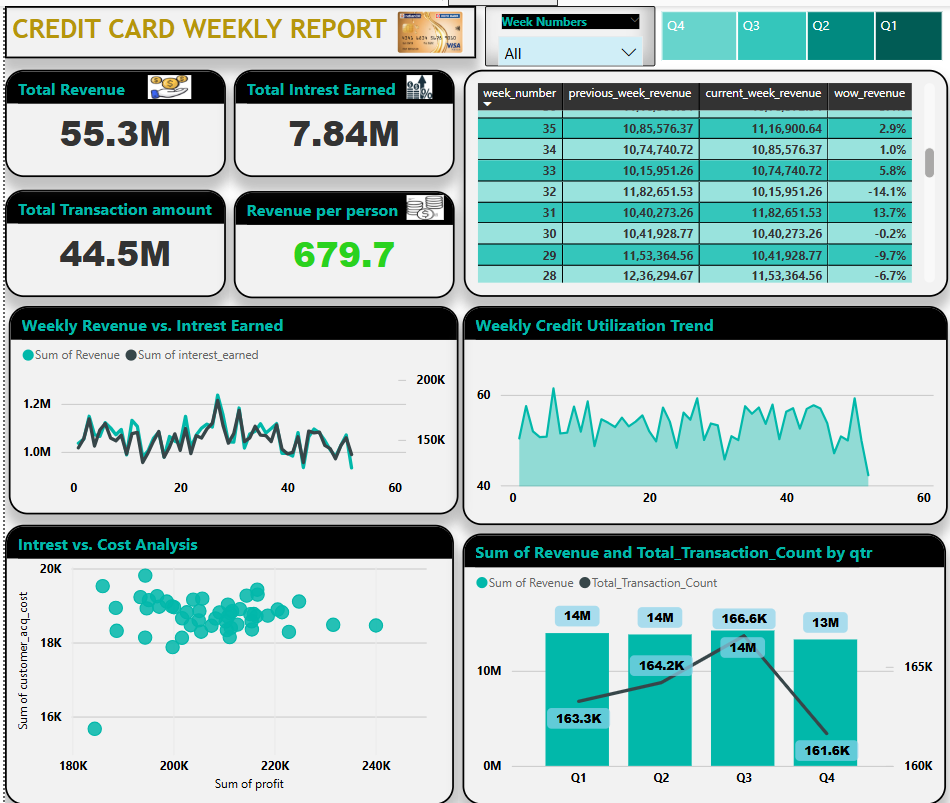

The page's visual inventory and layout, read from the dashboard file:
{"tool":"powerbi","page":{"name":"Weekly report","canvas":[850,755],"ordinal":0},"visuals":[{"type":"textbox","box":[0,0,424.7,47.3],"z":0},{"type":"image","box":[313,0,140.2,47.3],"z":1000},{"type":"tableEx","fields":{"Values":["Sum(public credit_card_detail.week_sort)","public credit_card_detail.previous_week_revenue","public credit_card_detail.current_week_revenue","public credit_card_detail.wow_revenue"]},"box":[413.3,57.9,436.9,204.6],"z":2000},{"type":"slicer","fields":{"Values":["public credit_card_detail.week_sort"]},"box":[432.4,0,153.8,54.2],"z":3000},{"type":"card","title":"Total Transaction amount","fields":{"Values":["public credit_card_detail.Total Transactions"]},"box":[0,165.5,198.9,97],"z":4000},{"type":"card","title":"Total Revenue","fields":{"Values":["Sum(public credit_card_detail.Revenue)"]},"box":[0,57.9,198.9,97],"z":5000},{"type":"card","title":"Revenue per person","fields":{"Values":["public credit_card_detail.Revenue_per_Customer"]},"box":[206.2,166.3,198.9,97],"z":6000},{"type":"card","title":"Total Intrest Earned","fields":{"Values":["Sum(public credit_card_detail.interest_earned)"]},"box":[206.2,57.9,198.9,97],"z":7000},{"type":"lineChart","title":" Weekly Revenue vs. Intrest Earned","fields":{"Category":["public credit_card_detail.week_number","public credit_card_detail.qtr"],"Y2":["Sum(public credit_card_detail.interest_earned)"],"Y":["Sum(public credit_card_detail.Revenue)"]},"box":[3.3,270.3,405.5,206.9],"z":8000},{"type":"treemap","fields":{"Group":["public credit_card_detail.qtr"],"Values":["Avg(public credit_card_detail.client_num)"]},"box":[586.9,0,263.3,54.6],"z":9000},{"type":"stackedAreaChart","title":"Weekly Credit Utilization Trend","fields":{"Y":["Sum(public credit_card_detail.avg_utilization_ratio)"],"Category":["Date_Master.Week_num","public credit_card_detail.qtr"]},"box":[413,270.3,437.2,206.9],"z":10000},{"type":"scatterChart","title":"Intrest vs. Cost Analysis","fields":{"Y":["Sum(public credit_card_detail.customer_acq_cost)"],"Category":["public credit_card_detail.week_number"],"X":["Sum(public credit_card_detail.profit)"]},"box":[0.9,486,404.8,268.9],"z":11000},{"type":"lineStackedColumnComboChart","fields":{"Category":["public credit_card_detail.qtr"],"Y":["Sum(public credit_card_detail.Revenue)"],"Y2":["public credit_card_detail.Total_Transaction_Count"]},"box":[413.3,485.8,436.7,269.2],"z":12000},{"type":"image","box":[124,57.8,48.8,31.4],"z":13000},{"type":"image","box":[356.8,57.8,32.8,31.4],"z":14000},{"type":"image","box":[357,166.2,43.5,32.5],"z":15000}]}

Visuals, with their boxes on the page's 850x755 design canvas (x1, y1, x2, y2). These are canvas units, not pixel positions in the 950x803 screenshot, which may show the page scaled, cropped or inside an application window:
textbox: locate(0, 0, 425, 47)
image: locate(313, 0, 453, 47)
tableEx - Sum(public credit_card_detail.week_sort) x public credit_card_detail.previous_week_revenue: locate(413, 58, 850, 262)
slicer - public credit_card_detail.week_sort: locate(432, 0, 586, 54)
"Total Transaction amount" card: locate(0, 166, 199, 262)
"Total Revenue" card: locate(0, 58, 199, 155)
"Revenue per person" card: locate(206, 166, 405, 263)
"Total Intrest Earned" card: locate(206, 58, 405, 155)
" Weekly Revenue vs. Intrest Earned" lineChart: locate(3, 270, 409, 477)
treemap - public credit_card_detail.qtr x Avg(public credit_card_detail.client_num): locate(587, 0, 850, 55)
"Weekly Credit Utilization Trend" stackedAreaChart: locate(413, 270, 850, 477)
"Intrest vs. Cost Analysis" scatterChart: locate(1, 486, 406, 755)
lineStackedColumnComboChart - public credit_card_detail.qtr x Sum(public credit_card_detail.Revenue): locate(413, 486, 850, 755)
image: locate(124, 58, 173, 89)
image: locate(357, 58, 390, 89)
image: locate(357, 166, 400, 199)
